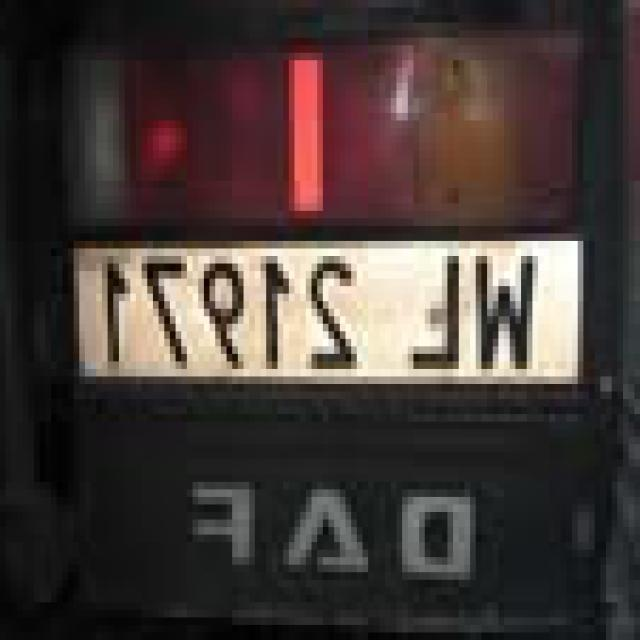pl_license_plate: (85, 234, 589, 376)
